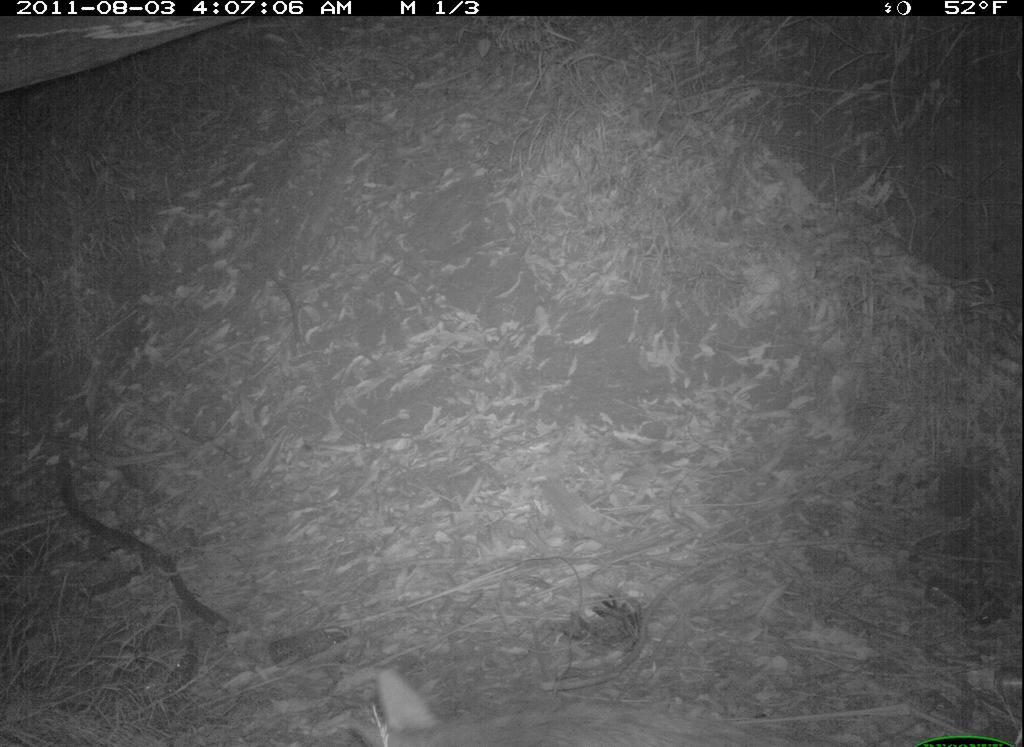coyote: (345, 664, 866, 747)
